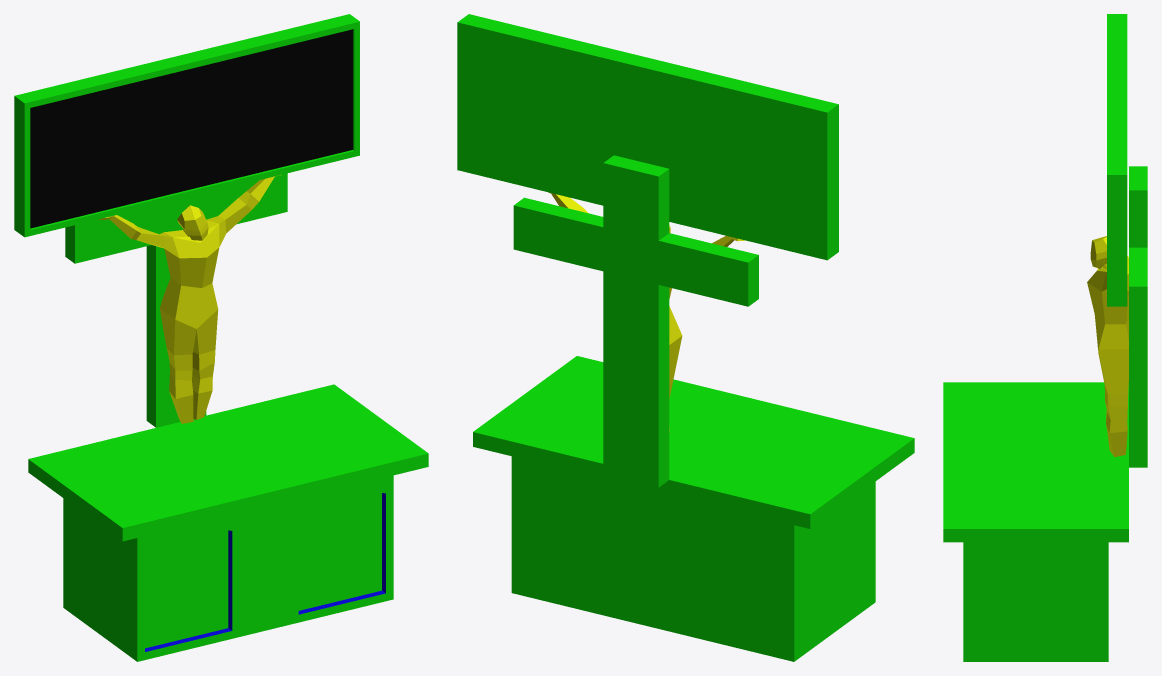
File: Altar.fbx
The picture shows the model from 3 angles, left to right: view 1: azimuth 30°, elevation 25°; view 2: azimuth 150°, elevation 25°; view 3: azimuth 270°, elevation 25°; orthographic projection. The views are drawn at different scales.
Visible parts, largest first — view 1: Cube; view 2: Cube; view 3: Cube.
Boxes of the visible parts, left/top/right/bottom form: Cube: left=14, top=14, right=428, bottom=661; Cube: left=457, top=14, right=914, bottom=661; Cube: left=943, top=14, right=1147, bottom=661.
Bounding box in the file's own units: 524 × 768 × 281.
